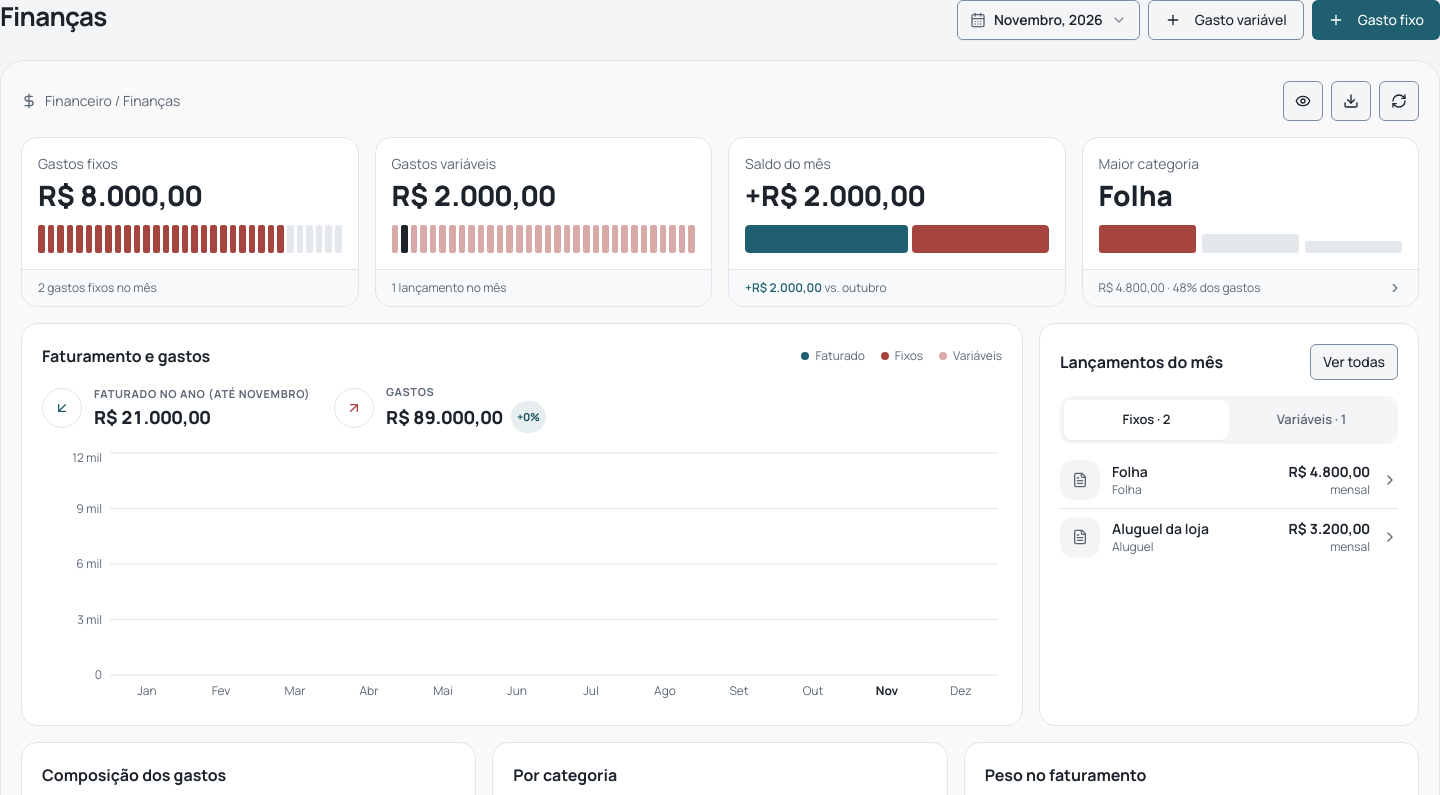
Test: Finanças (fase 8) › o olho oculta os valores; Ver todas abre a lista completa
Check: the element "Gastos fixos" shows "8.000,00", box [38, 176, 202, 214]
Click the button named "Ocultar valores". click: (1303, 101)
box: [1283, 81, 1323, 121]
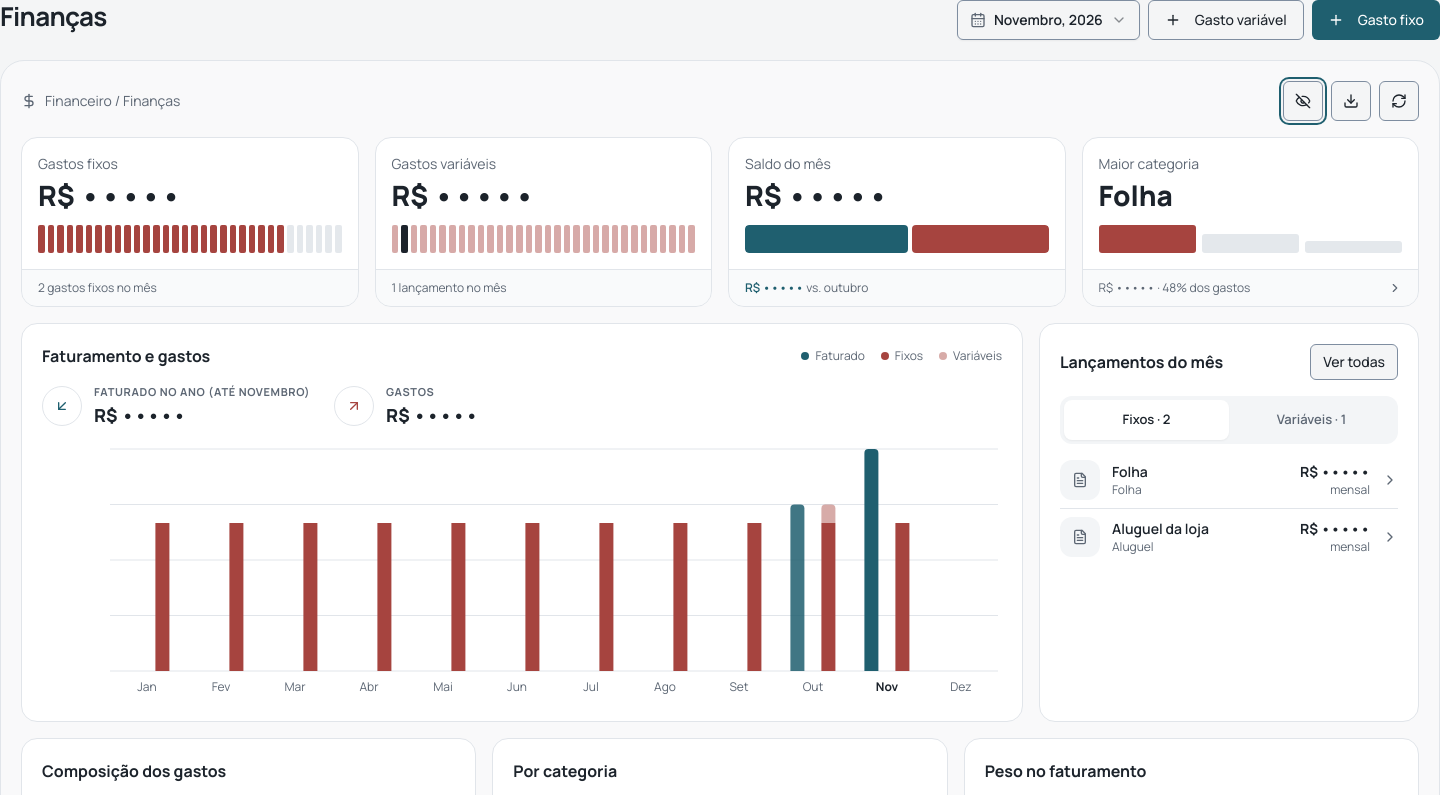
Check: the element "Gastos fixos" shows "R$ •••••", box [38, 176, 181, 214]
Check: the element "Gastos fixos" no longer shows "8.000,00", box [21, 137, 358, 307]
Click the button "Ver todas". click: (1354, 362)
box: [1310, 344, 1398, 380]
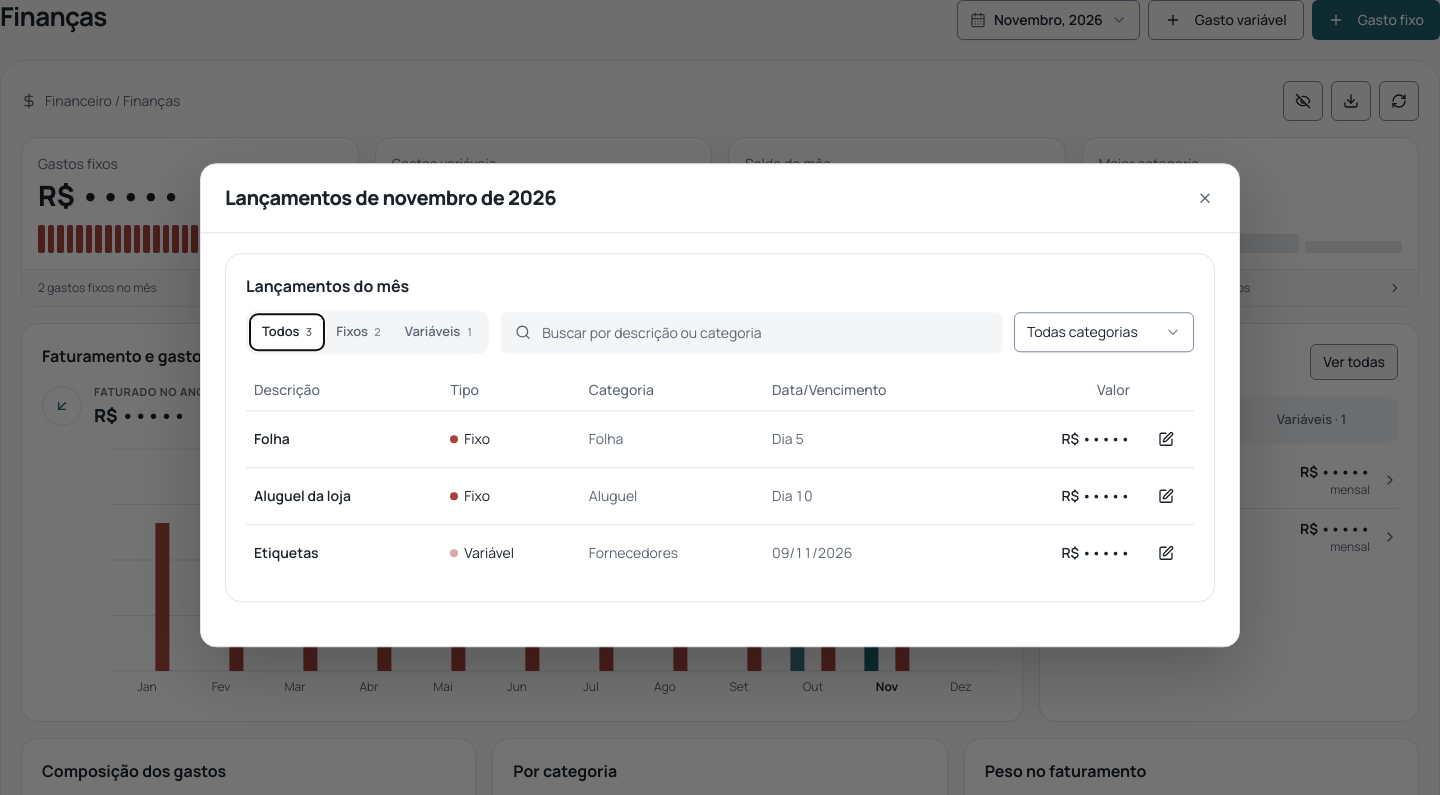
Check: the text "Etiquetas" is shown, box [246, 524, 442, 581]
Check: the text "R$ •••••" is shown 3 times, box [991, 410, 1138, 467]; [991, 467, 1138, 524]; [991, 524, 1138, 581]
